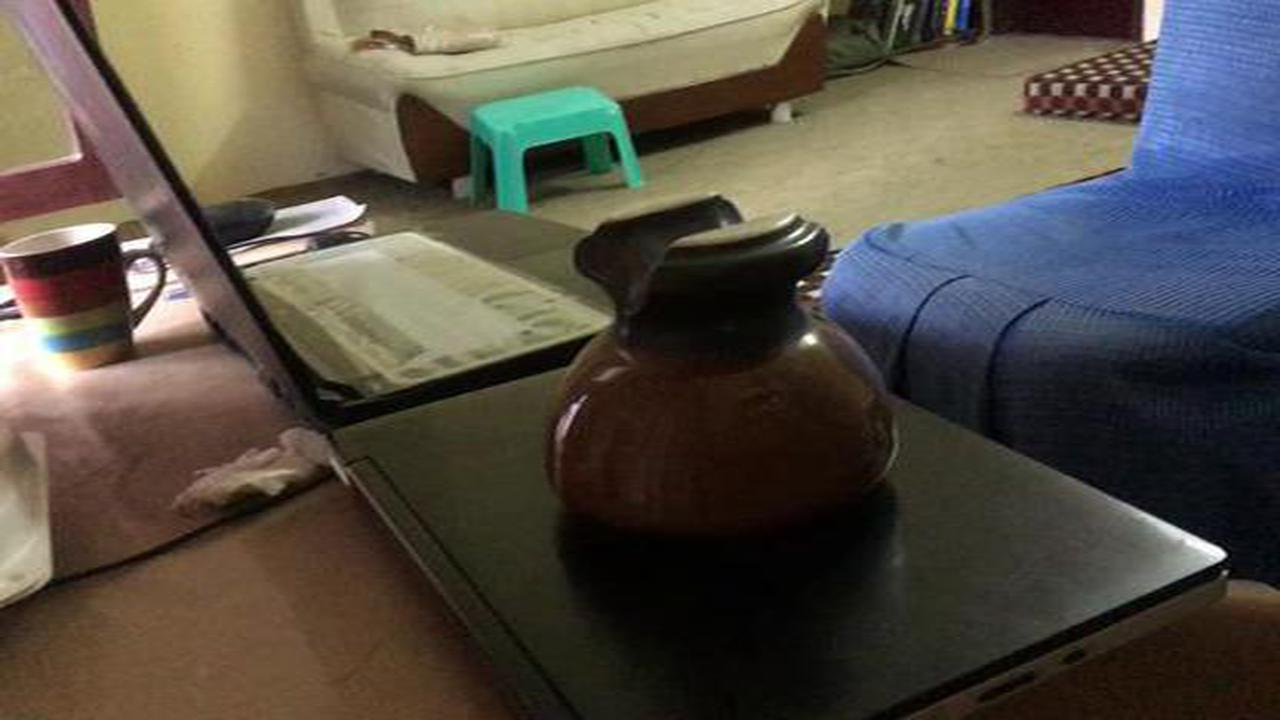insulator_pin: (521, 181, 930, 586)
